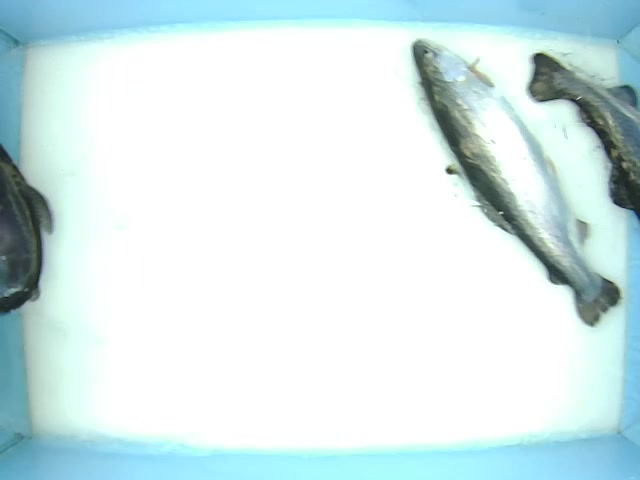fish: (389, 33, 625, 347)
